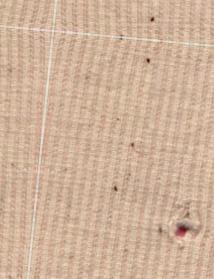hole: (166, 215, 200, 246)
stain: (140, 14, 164, 29), (141, 56, 164, 71), (107, 181, 125, 198), (124, 137, 140, 156)
